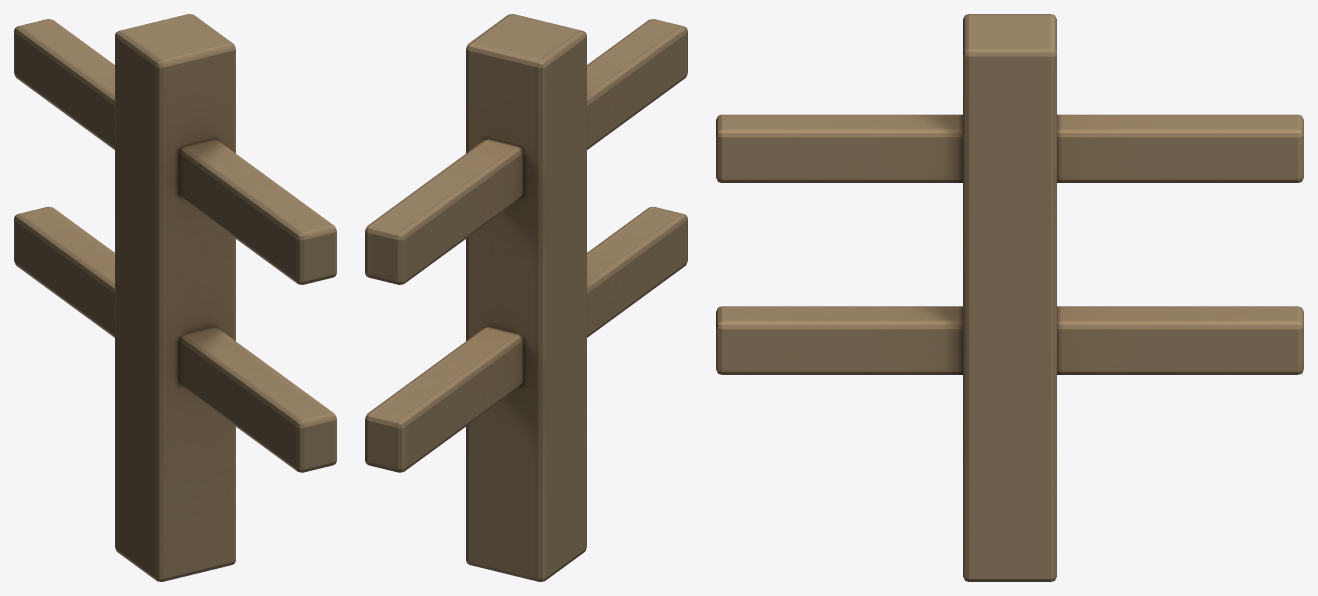
The model's file is mcfence.glb.
3 renders of one model, left to right at view 1: azimuth 30°, elevation 25°; view 2: azimuth 150°, elevation 25°; view 3: azimuth 270°, elevation 25°, orthographic. The views are drawn at different scales.
Parts seen in each view (by area): view 1: mcfence; view 2: mcfence; view 3: mcfence.
Part boxes in pixels (x1,y1,x2,y2): mcfence: [14, 14, 336, 581]; mcfence: [365, 14, 687, 581]; mcfence: [716, 14, 1303, 581].
Size of the model in its own units: 0.16 by 1 by 1.
1 material, 1 textured.
